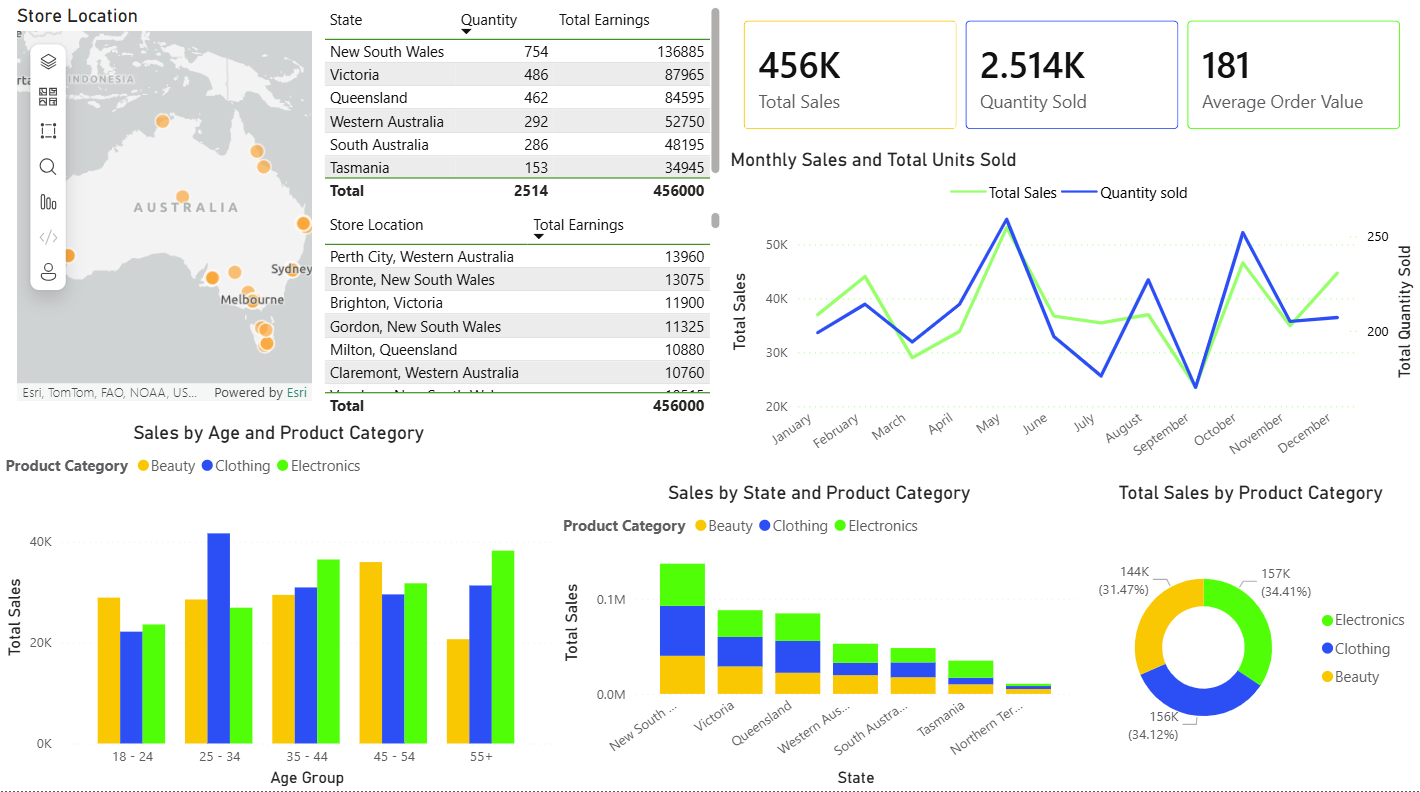

The dashboard page shown, as its layout file describes it:
{"tool":"powerbi","page":{"name":"Page 1","canvas":[1280,720],"ordinal":0},"visuals":[{"type":"esriVisual","fields":{"Location":["retail_sales_dataset.CityState"]},"box":[9.8,9.8,276.4,363.2],"z":0},{"type":"lineChart","title":"Monthly Sales and Total Units Sold","fields":{"Category":["retail_sales_dataset.Date.Variation.Date Hierarchy.Month"],"Y":["Sum(retail_sales_dataset.Total Amount)"],"Y2":["Sum(retail_sales_dataset.Quantity)"]},"box":[654.2,139.4,626.1,300.8],"z":1000},{"type":"donutChart","title":"Total Sales by Product Category","fields":{"Category":["retail_sales_dataset.Product Category"],"Y":["Sum(retail_sales_dataset.Total Amount)"]},"box":[974.6,440.2,305.7,280],"z":2000},{"type":"columnChart","title":"Sales by State and Product Category","fields":{"Category":["retail_sales_dataset.State"],"Y":["Sum(retail_sales_dataset.Total Amount)"],"Series":["retail_sales_dataset.Product Category"]},"box":[502.6,440.2,472,280],"z":3000},{"type":"clusteredColumnChart","title":"Sales by Age and Product Category ","fields":{"Category":["retail_sales_dataset (3).AgeBand"],"Y":["Sum(retail_sales_dataset.Total Amount)"],"Series":["retail_sales_dataset.Product Category"]},"box":[0,386.4,502.6,333.8],"z":4000},{"type":"tableEx","fields":{"Values":["retail_sales_dataset.State","Sum(retail_sales_dataset.Quantity)","Sum(retail_sales_dataset.Total Amount)"]},"box":[286.1,7.3,368.1,184.6],"z":6000},{"type":"tableEx","fields":{"Values":["retail_sales_dataset.CityState","Sum(retail_sales_dataset.Total Amount)"]},"box":[286.1,193.2,368.1,193.2],"z":7000},{"type":"cardVisual","fields":{"Data":["Sum(retail_sales_dataset.Total Amount)","Sum(retail_sales_dataset.Quantity)","retail_sales_dataset.Sum of Total Amount divided by Sum of Quantity 2"]},"box":[654.2,7.3,626.1,132.1],"z":8000}]}

Visuals, with their boxes in screenshot pixels (x1, y1, x2, y2), scaled from the page's 1280x720 canvas onto the 1420x792 screenshot:
esriVisual - retail_sales_dataset.CityState: {"left": 11, "top": 11, "right": 318, "bottom": 410}
"Monthly Sales and Total Units Sold" lineChart: {"left": 726, "top": 153, "right": 1419, "bottom": 484}
"Total Sales by Product Category" donutChart: {"left": 1081, "top": 484, "right": 1419, "bottom": 791}
"Sales by State and Product Category" columnChart: {"left": 558, "top": 484, "right": 1081, "bottom": 791}
"Sales by Age and Product Category " clusteredColumnChart: {"left": 0, "top": 425, "right": 558, "bottom": 791}
tableEx - retail_sales_dataset.State x Sum(retail_sales_dataset.Quantity): {"left": 317, "top": 8, "right": 726, "bottom": 211}
tableEx - retail_sales_dataset.CityState x Sum(retail_sales_dataset.Total Amount): {"left": 317, "top": 213, "right": 726, "bottom": 425}
cardVisual - Sum(retail_sales_dataset.Total Amount) x Sum(retail_sales_dataset.Quantity): {"left": 726, "top": 8, "right": 1419, "bottom": 153}
